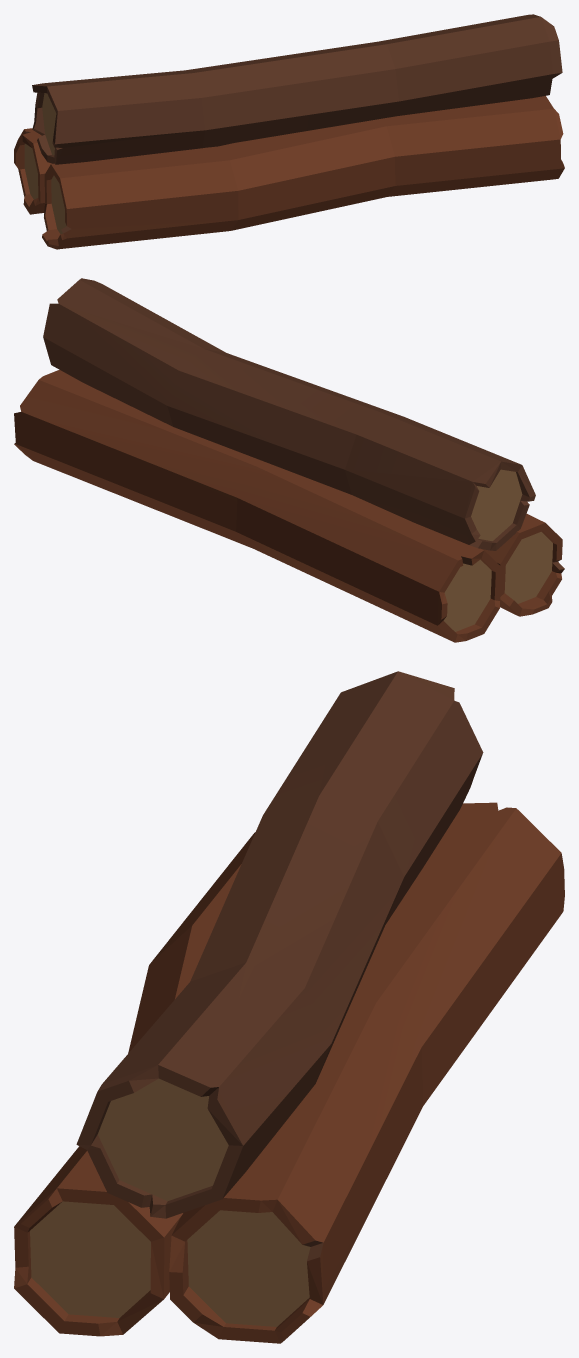
File: oak log3.fbx
3 renders of one model, top to bottom at view 1: azimuth 30°, elevation 25°; view 2: azimuth 150°, elevation 25°; view 3: azimuth 270°, elevation 25°, orthographic. The views are drawn at different scales.
Visible parts, largest first — view 1: TreeLog_G.001; view 2: TreeLog_G.001; view 3: TreeLog_G.001.
Part boxes in pixels (bbox=[...]): TreeLog_G.001: bbox=[14, 14, 564, 249]; TreeLog_G.001: bbox=[14, 278, 564, 642]; TreeLog_G.001: bbox=[14, 671, 564, 1343].
Size of the model in its own units: 1177 by 359 by 610.
